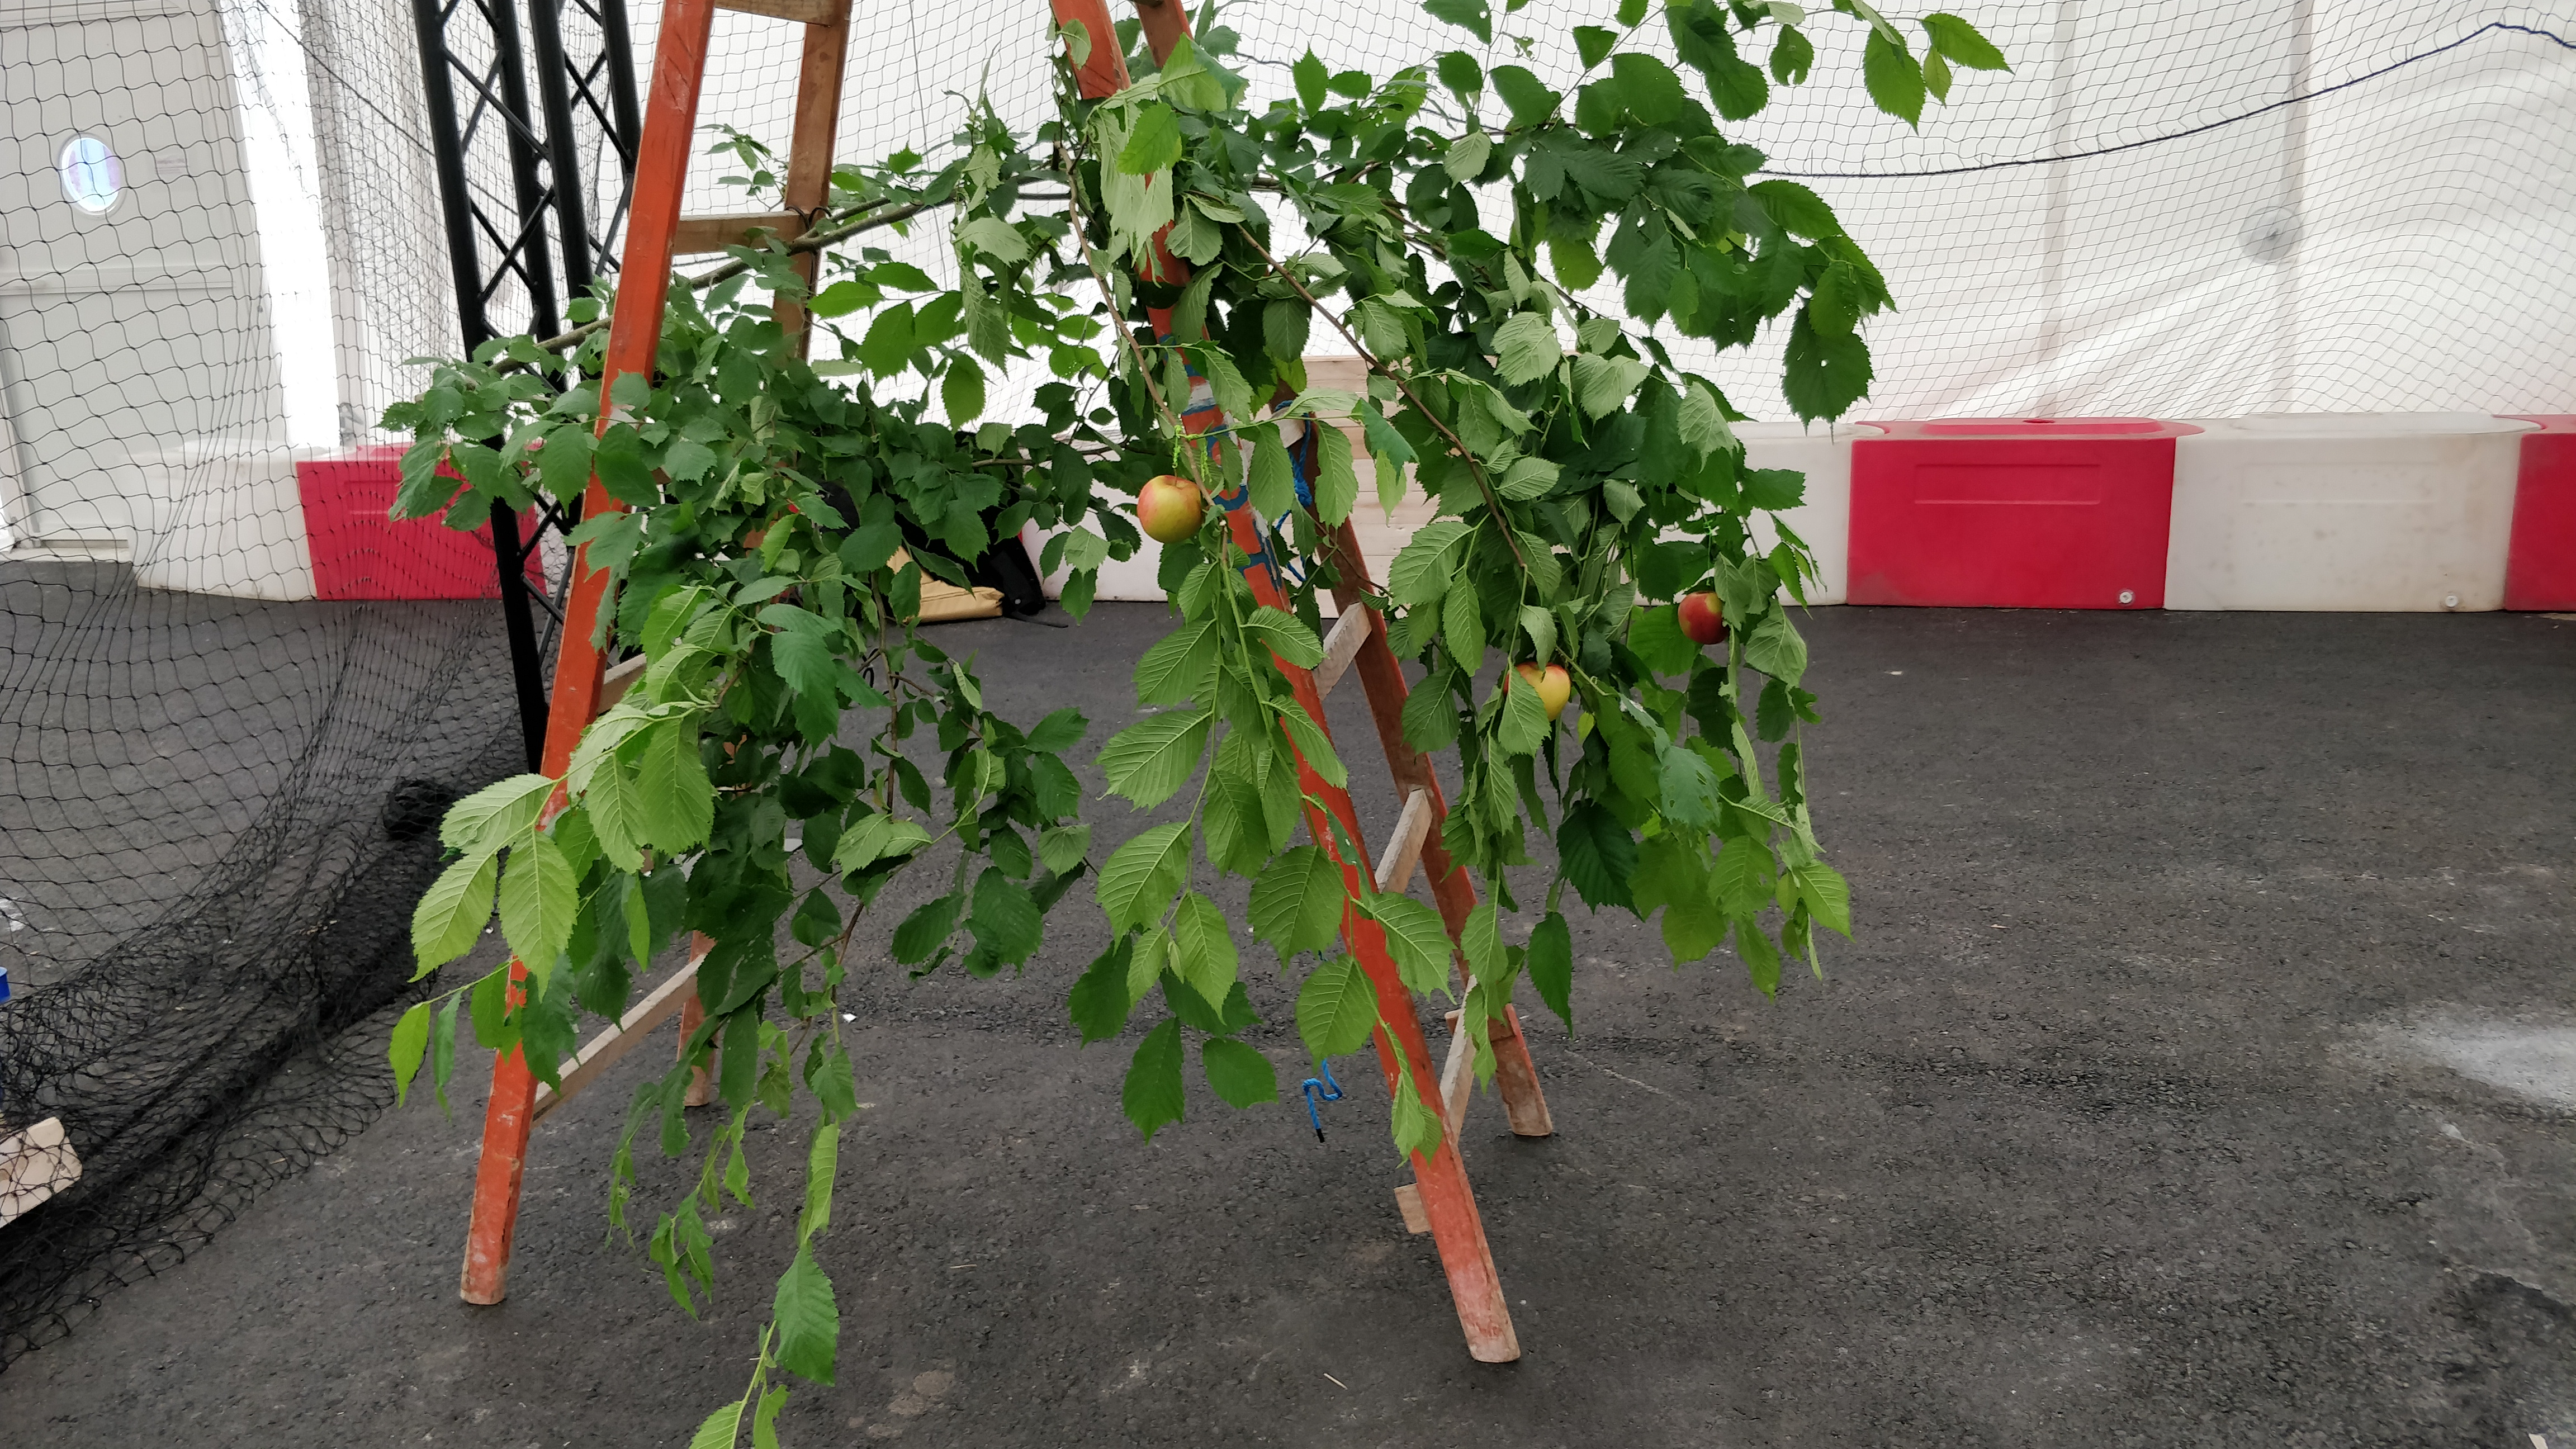apple: (1138, 476, 1203, 543), (1504, 662, 1571, 725), (1677, 591, 1730, 644)
